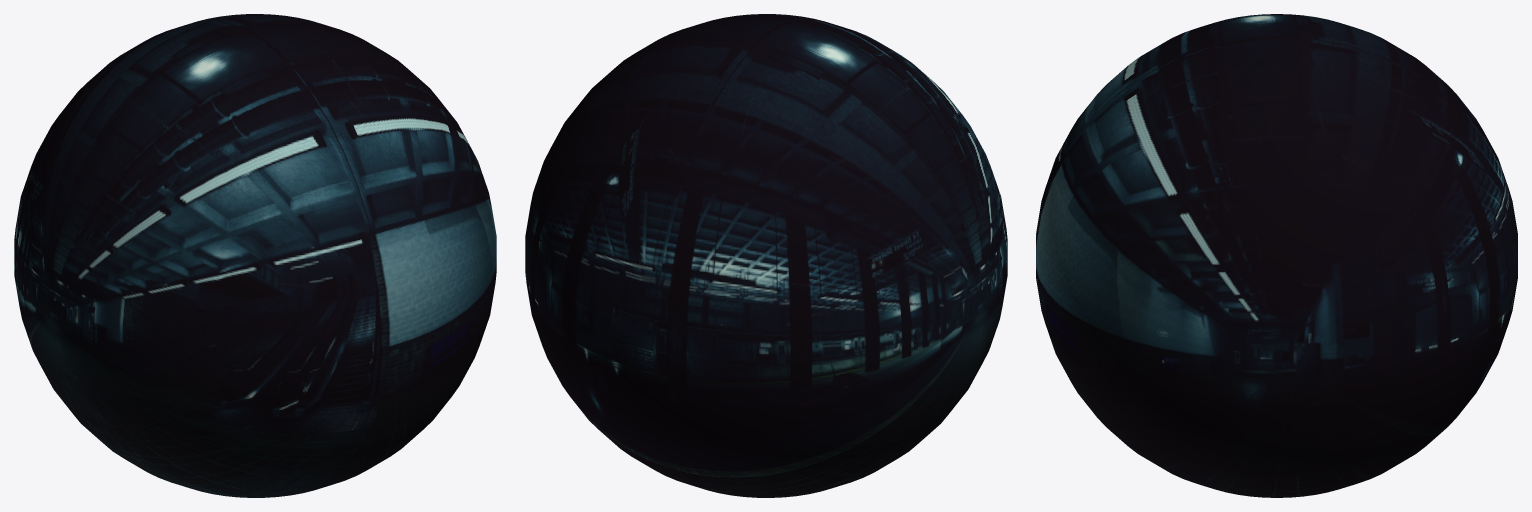
File: env.glb
3 views of the same model, side by side, from view 1: azimuth 30°, elevation 25°; view 2: azimuth 150°, elevation 25°; view 3: azimuth 270°, elevation 25° (orthographic).
Parts seen in each view (by area): view 1: PanoSphere; view 2: PanoSphere; view 3: PanoSphere.
Part boxes in pixels (bbox=[...]): PanoSphere: bbox=[14, 14, 496, 497]; PanoSphere: bbox=[525, 14, 1007, 497]; PanoSphere: bbox=[1036, 14, 1517, 497].
Size of the model in its own units: 566 by 568 by 565.
Materials: 1 (1 with a texture image).
